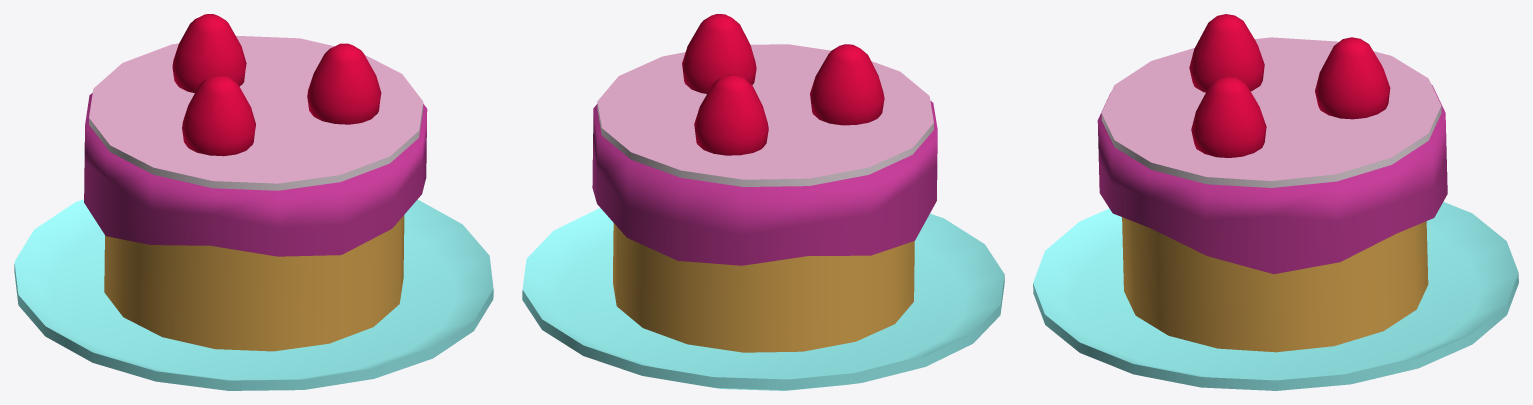
Rendered from Cake.fbx.
The picture shows the model from 3 angles, left to right: view 1: azimuth 30°, elevation 25°; view 2: azimuth 150°, elevation 25°; view 3: azimuth 270°, elevation 25°; orthographic projection.
Visible parts, largest first — view 1: Object_8.001, Object_4.001, Object_6.001, Object_7.001, Object_9.001, Object_5.001; view 2: Object_8.001, Object_7.001, Object_4.001, Object_6.001, Object_9.001, Object_5.001; view 3: Object_8.001, Object_7.001, Object_4.001, Object_6.001, Object_9.001, Object_5.001.
Part boxes in pixels (bbox=[...]): Object_8.001: bbox=[14, 199, 493, 390]; Object_4.001: bbox=[104, 215, 404, 351]; Object_6.001: bbox=[89, 35, 423, 183]; Object_7.001: bbox=[84, 93, 427, 256]; Object_9.001: bbox=[172, 14, 381, 156]; Object_5.001: bbox=[89, 104, 423, 190]; Object_8.001: bbox=[522, 208, 1004, 390]; Object_7.001: bbox=[592, 101, 937, 265]; Object_4.001: bbox=[613, 223, 914, 352]; Object_6.001: bbox=[597, 44, 933, 179]; Object_9.001: bbox=[682, 14, 884, 155]; Object_5.001: bbox=[597, 101, 933, 186]; Object_8.001: bbox=[1033, 202, 1518, 390]; Object_7.001: bbox=[1097, 84, 1447, 274]; Object_4.001: bbox=[1122, 217, 1428, 352]; Object_6.001: bbox=[1101, 37, 1441, 180]; Object_9.001: bbox=[1189, 14, 1390, 157]; Object_5.001: bbox=[1101, 106, 1441, 187].
Bounding box in the file's own units: 586 × 354 × 586.
